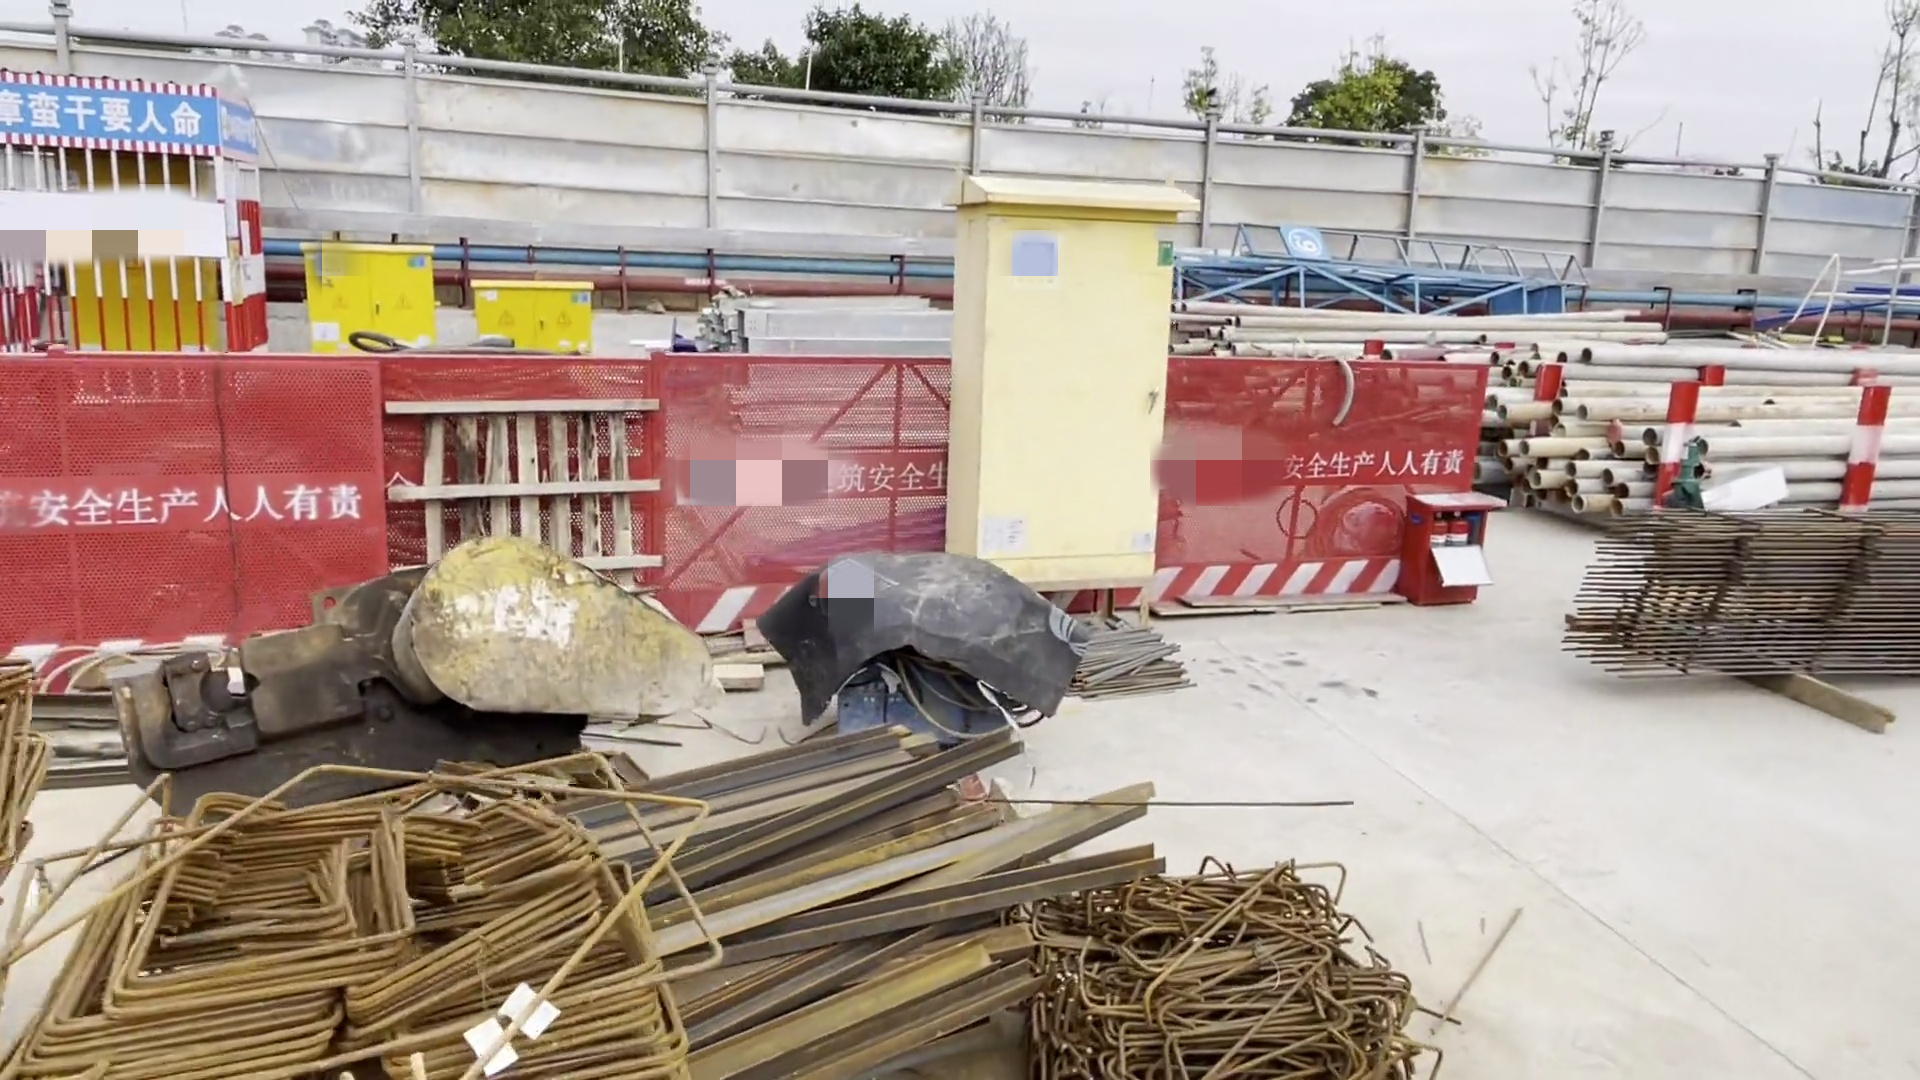ebox: (949, 162, 1164, 592), (62, 162, 214, 360), (293, 241, 450, 367), (471, 276, 593, 348)
fence: (378, 348, 1481, 579), (3, 353, 373, 665)
rebar: (1578, 501, 1920, 669), (1080, 620, 1176, 686)
slogan: (1, 70, 211, 160)
